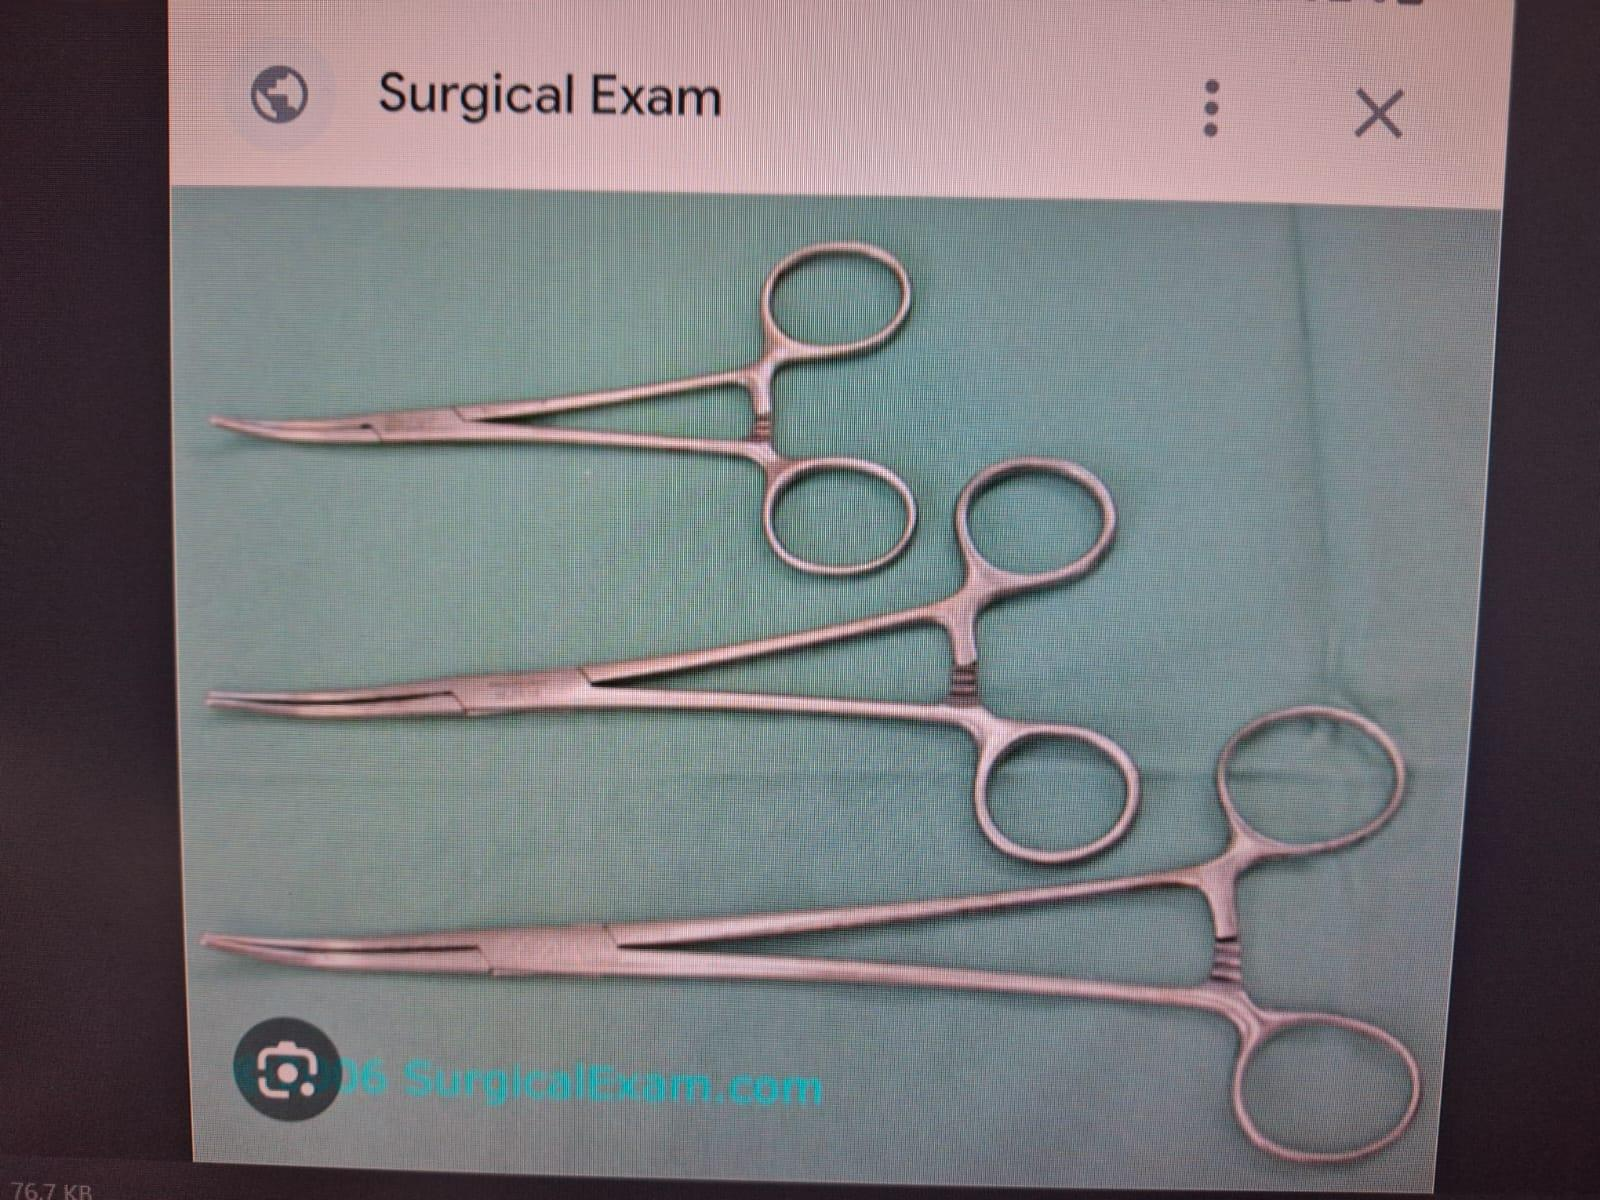Artery Forceps: (182, 684, 1438, 1168), (204, 450, 1144, 890), (216, 232, 934, 582)
